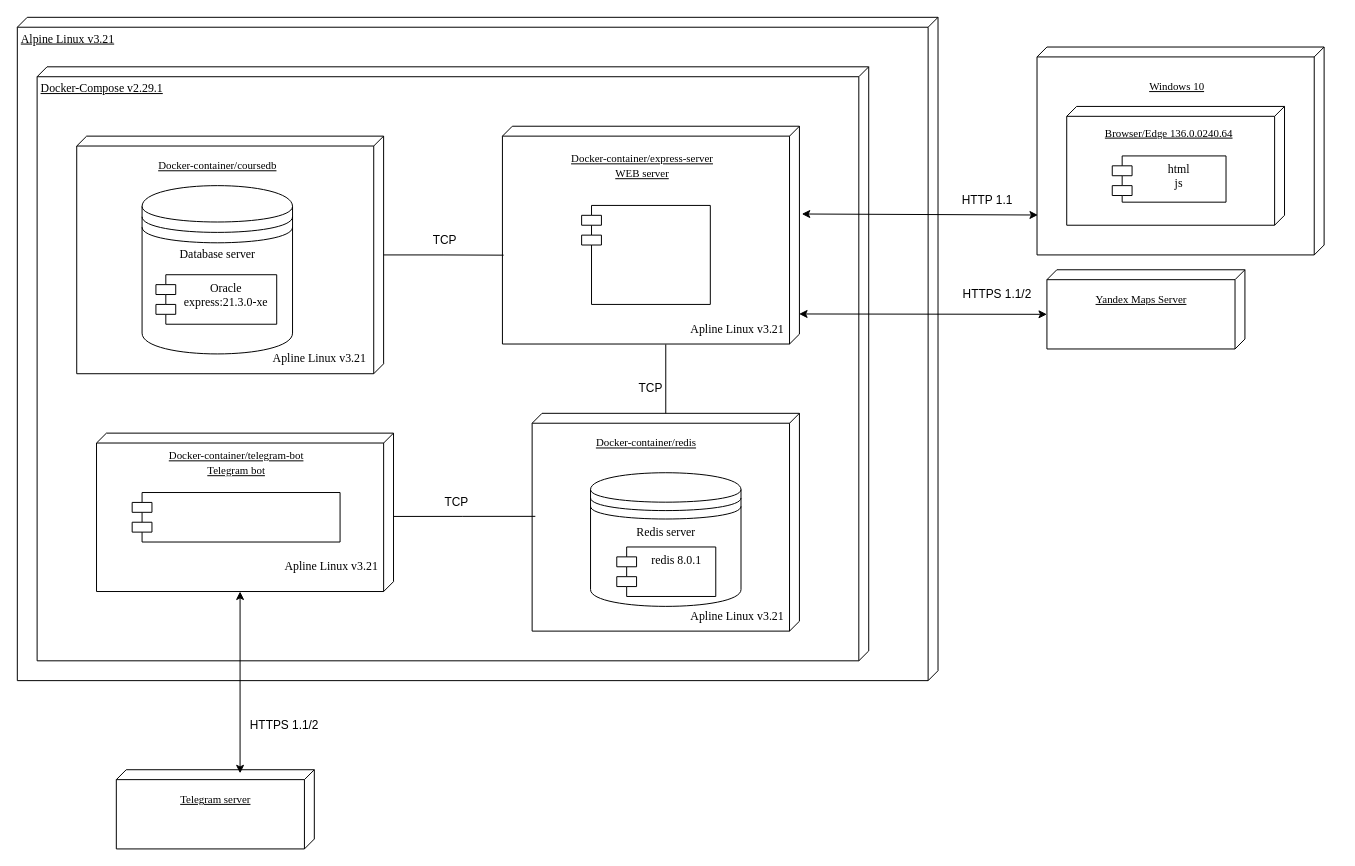
The diagram is 1355 pixels wide and 866 high, and some of its shapes have lost their labels. Each missing label, with the centre of its shape:
"IOREDIS 5.6.1 NODE-TELEGRAM-BOT-API 0.66.0" goes at pixel 235 517.
"Node.js v22.15.0 Express 4.21.2 Sequelize 6.27.6 ORM EJS 3.1.10 IOREDIS 5.6.1" goes at pixel 645 254.
